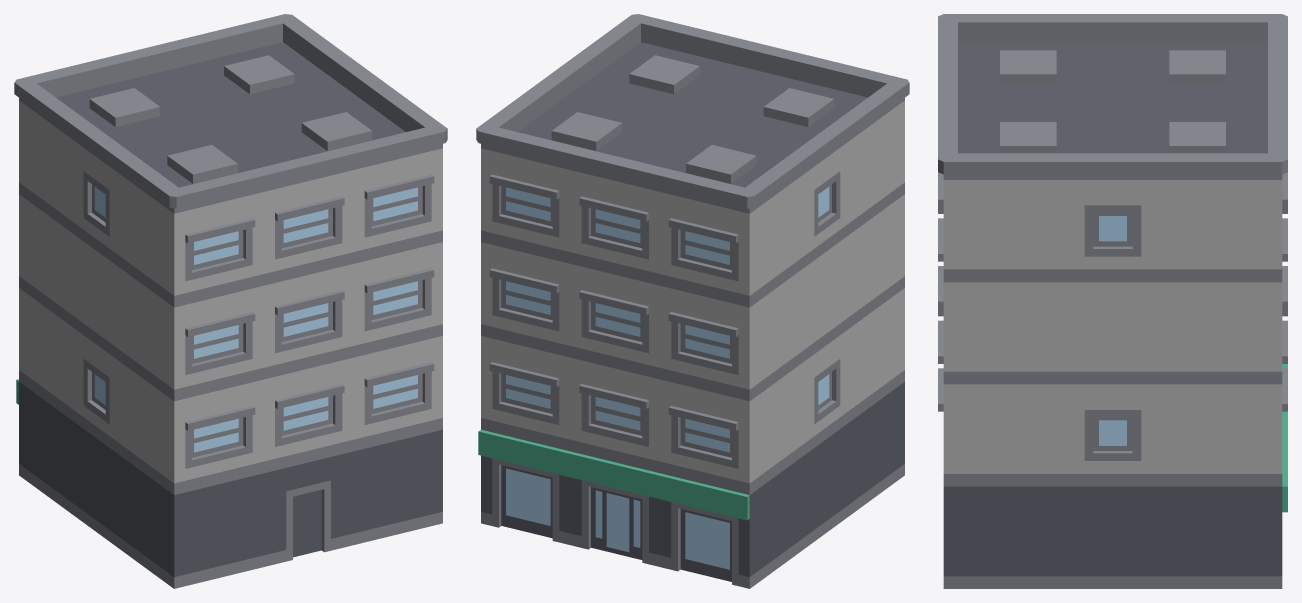
The model's file is large_buildingD.fbx.
3 views of the same model, side by side, from view 1: azimuth 30°, elevation 25°; view 2: azimuth 150°, elevation 25°; view 3: azimuth 270°, elevation 25° (orthographic). The views are drawn at different scales.
Parts seen in each view (by area): view 1: large_buildingD; view 2: large_buildingD; view 3: large_buildingD.
Part boxes in pixels (<box>): large_buildingD: <box>14,14,447,588</box>; large_buildingD: <box>476,14,909,588</box>; large_buildingD: <box>938,14,1287,588</box>.
Size of the model in its own units: 12.4 by 16.8 by 12.4.
